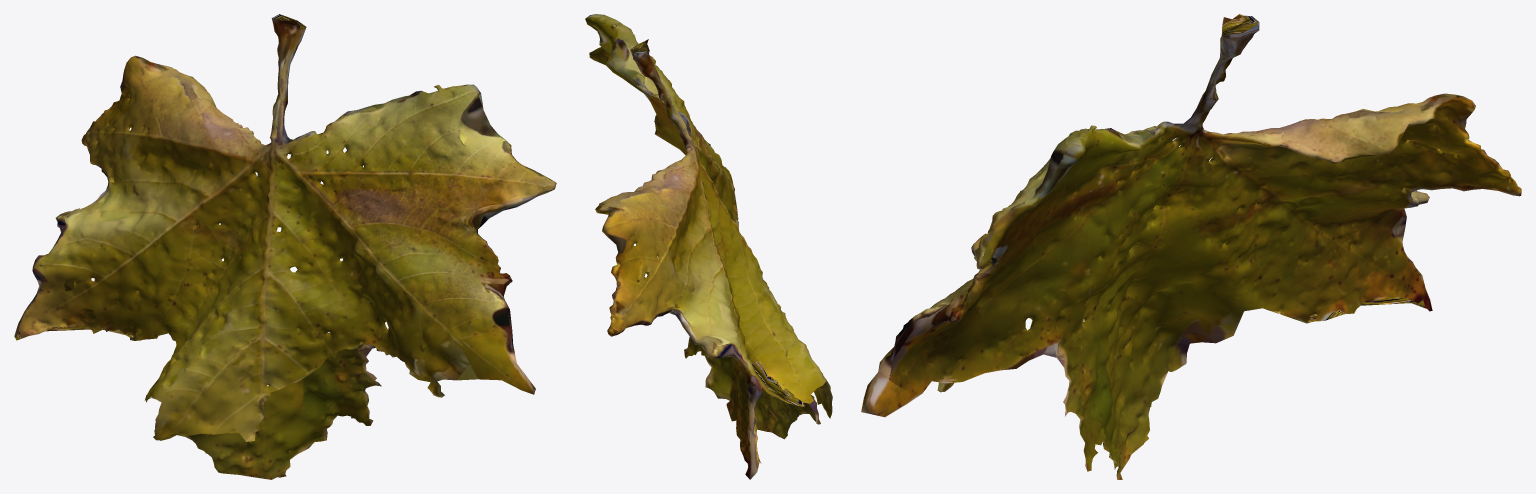
The model's file is asset.gltf.
3 renders of one model, left to right at view 1: azimuth 30°, elevation 25°; view 2: azimuth 150°, elevation 25°; view 3: azimuth 270°, elevation 25°, orthographic. The views are drawn at different scales.
Visible parts, largest first — view 1: export_2; view 2: export_2; view 3: export_2.
Part boxes in pixels (left/top/right/bottom): export_2: left=14, top=14, right=556, bottom=479; export_2: left=585, top=14, right=832, bottom=479; export_2: left=861, top=14, right=1521, bottom=479.
Size of the model in its own units: 0.5725 by 0.6337 by 0.7658.
1 material, 1 textured.
